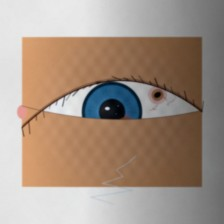foreign_body_visible: (148, 121, 177, 144)
